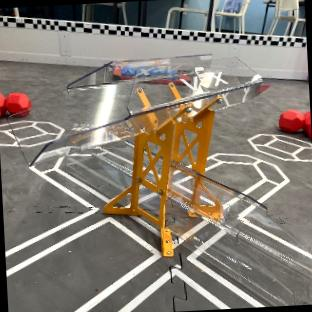V5_RED: (278, 110, 311, 136), (0, 91, 30, 116)
